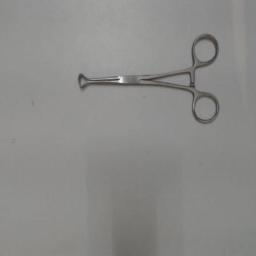Babcock Tissue Forceps: (74, 30, 222, 126)
